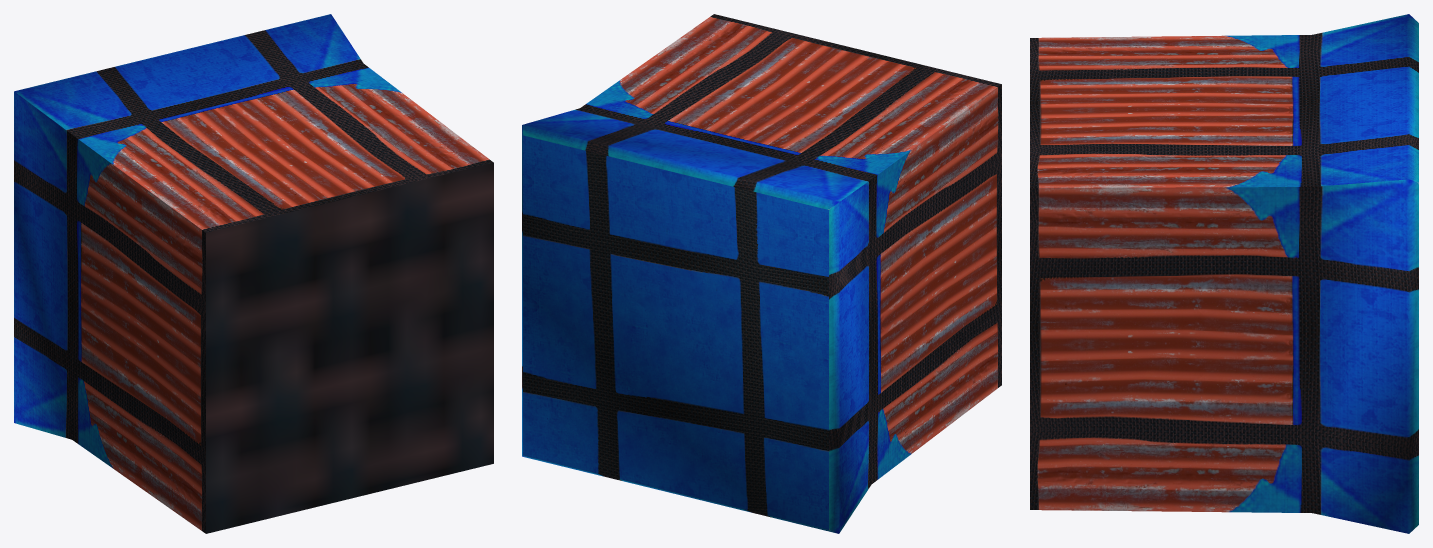
Rendered from PubG Box 2.fbx.
The picture shows the model from 3 angles, left to right: view 1: azimuth 30°, elevation 25°; view 2: azimuth 150°, elevation 25°; view 3: azimuth 270°, elevation 25°; orthographic projection. The views are drawn at different scales.
Parts seen in each view (by area): view 1: Box001; view 2: Box001; view 3: Box001.
Boxes of the visible parts, x1=… form: Box001: x1=14, y1=14, x2=493, y2=533; Box001: x1=522, y1=14, x2=1001, y2=533; Box001: x1=1030, y1=14, x2=1418, y2=533.
Size of the model in its own units: 50 by 50 by 49.69.
Materials: 1 (1 with a texture image).
